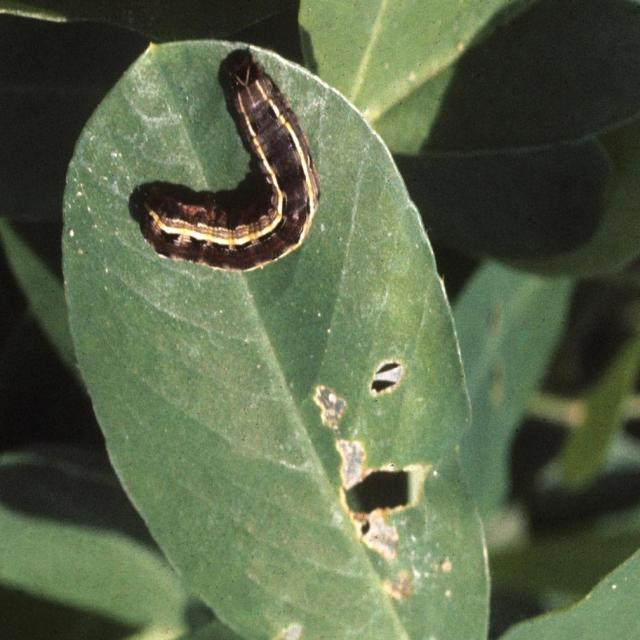army worm: (131, 56, 324, 273)
